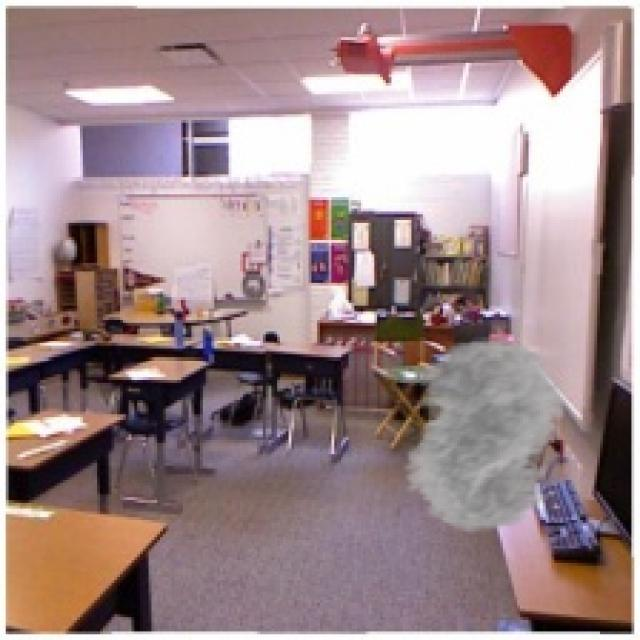smoke: (383, 334, 583, 534)
